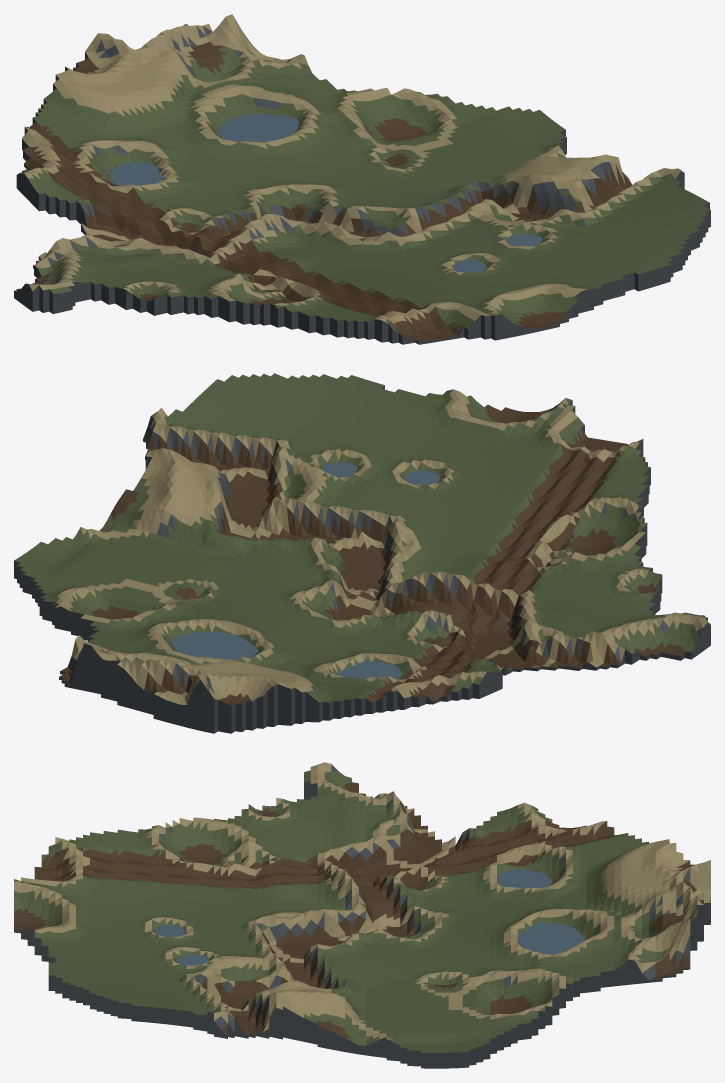
File: world-war-ii-terrain-df5f03.glb
The picture shows the model from 3 angles, top to bottom: view 1: azimuth 30°, elevation 25°; view 2: azimuth 150°, elevation 25°; view 3: azimuth 270°, elevation 25°; orthographic projection. The views are drawn at different scales.
Parts seen in each view (by area): view 1: battlefield-ground, water; view 2: battlefield-ground, water; view 3: battlefield-ground, water.
Part boxes in pixels (x1,y1,x2,y2): battlefield-ground: (14, 14, 710, 344); water: (110, 114, 542, 272); battlefield-ground: (14, 373, 710, 733); water: (171, 462, 440, 679); battlefield-ground: (14, 762, 710, 1068); water: (155, 869, 584, 965).
Size of the model in its own units: 92 by 12.01 by 101.
